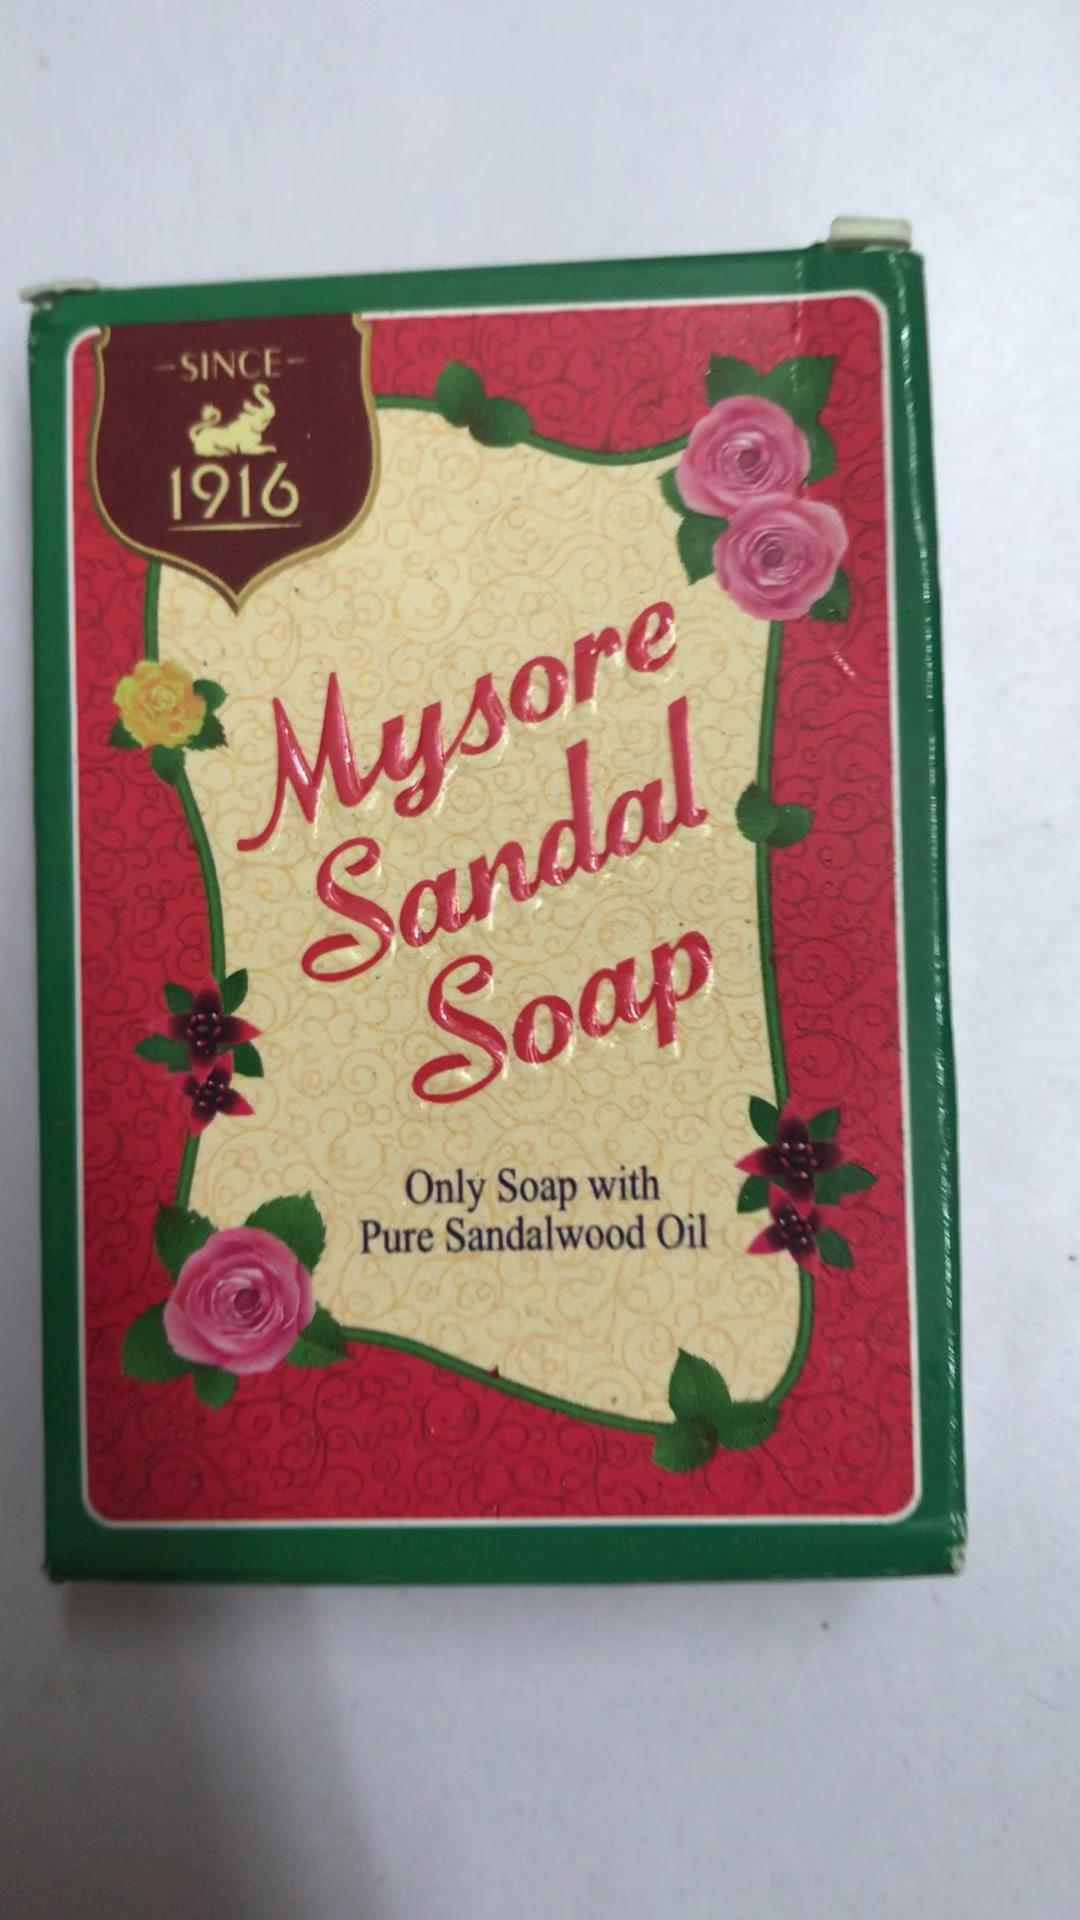mysore sandal soap: (13, 256, 978, 1575)
